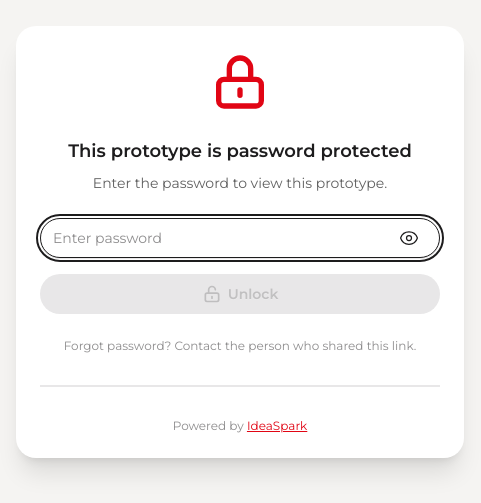
PublicPrototypeViewer › Password Protection › should show error for incorrect password without blocking retry
Check: the heading "This prototype is password protected" is shown, box [40, 138, 440, 165]
// Enter wrong password
In the password field with test id "verify-password-input": (240, 238) [40, 218, 440, 258], type "wrong-password"
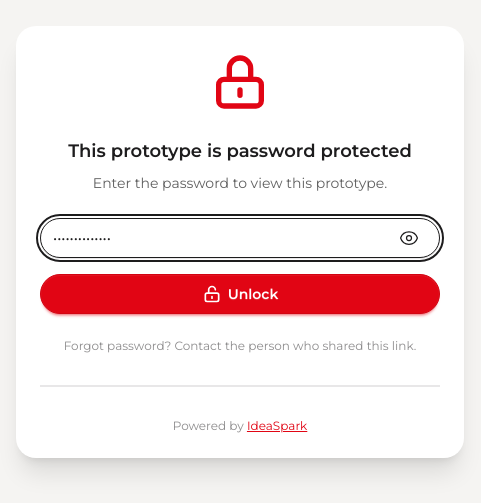
Click the button "Unlock": (240, 294) [40, 274, 440, 314]
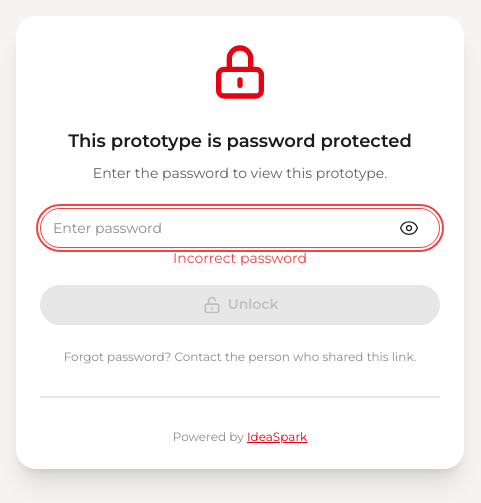
Check: the text "Incorrect password" is shown, box [173, 248, 307, 268]
